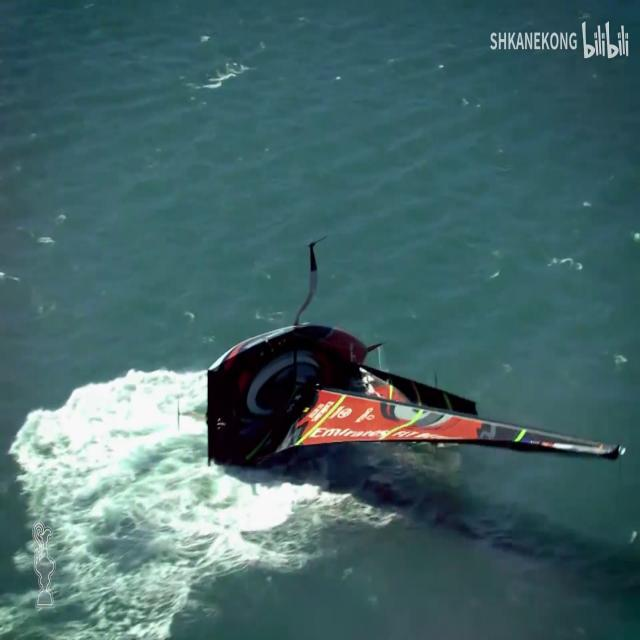sailboat: (194, 314, 627, 478)
